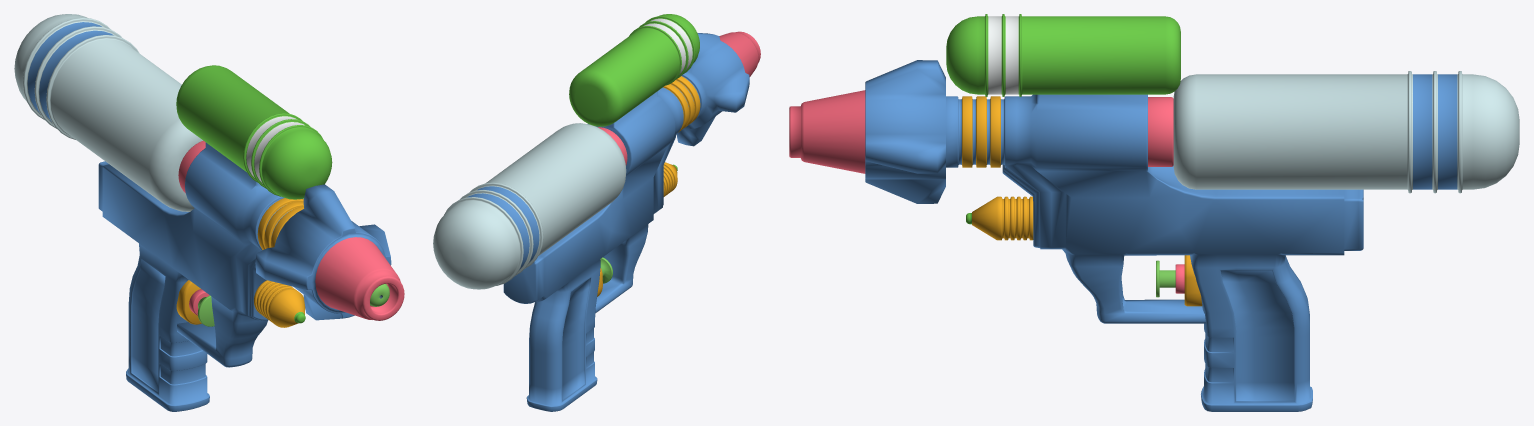
The model's file is Watergun3.fbx.
The picture shows the model from 3 angles, left to right: view 1: azimuth 30°, elevation 25°; view 2: azimuth 150°, elevation 25°; view 3: azimuth 270°, elevation 25°; orthographic projection. The views are drawn at different scales.
Visible parts, largest first — view 1: Watergun3; view 2: Watergun3; view 3: Watergun3.
Boxes of the visible parts, x1,y1,x2,y2 form: Watergun3: (14,14,404,411); Watergun3: (433,14,760,411); Watergun3: (789,14,1519,411).
Size of the model in its own units: 0.0844 by 0.238 by 0.4106.
